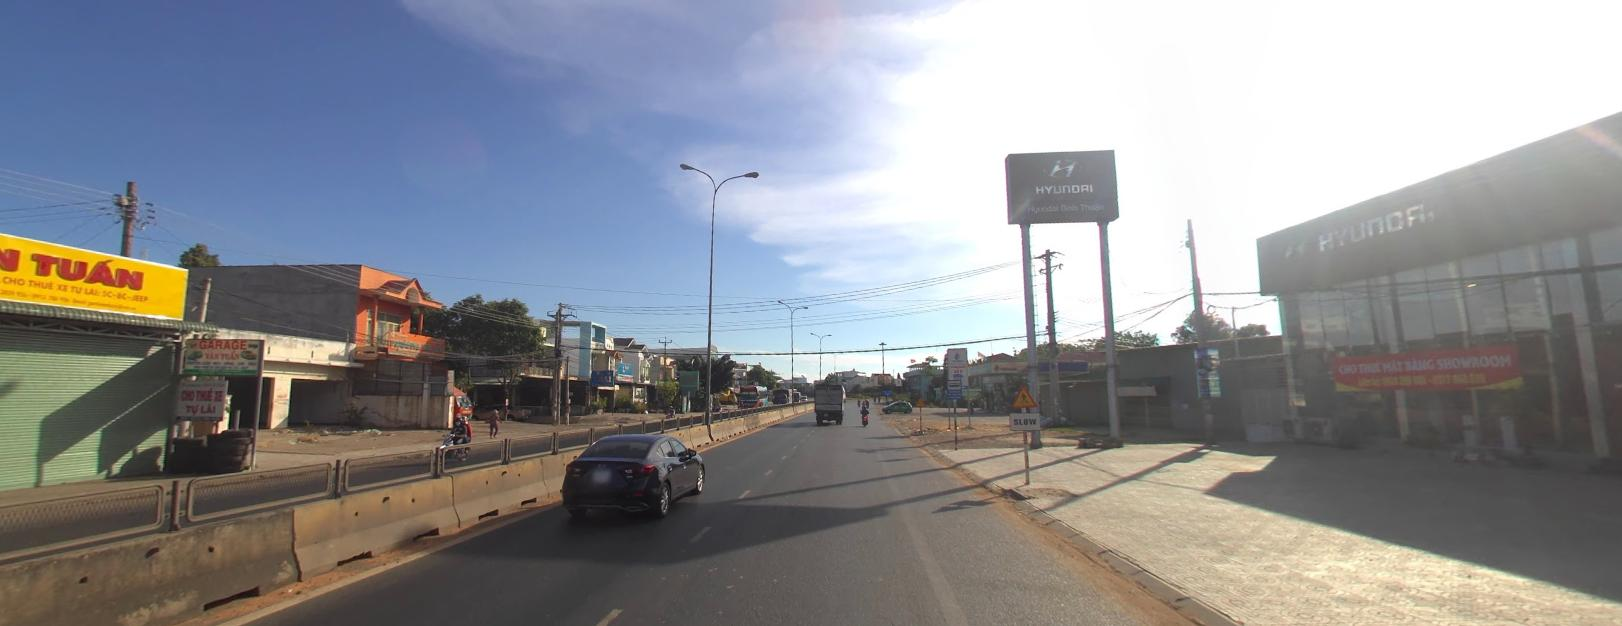Nguy hiem: (1011, 384, 1037, 405), (914, 395, 926, 405)
